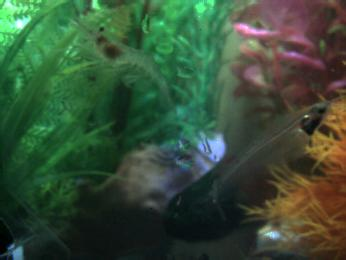glassfish: (190, 100, 333, 218)
siberian prawn: (68, 16, 176, 108)
